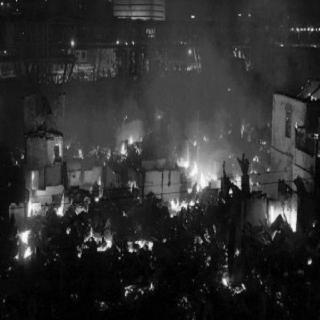Fire: (17, 137, 306, 267)
